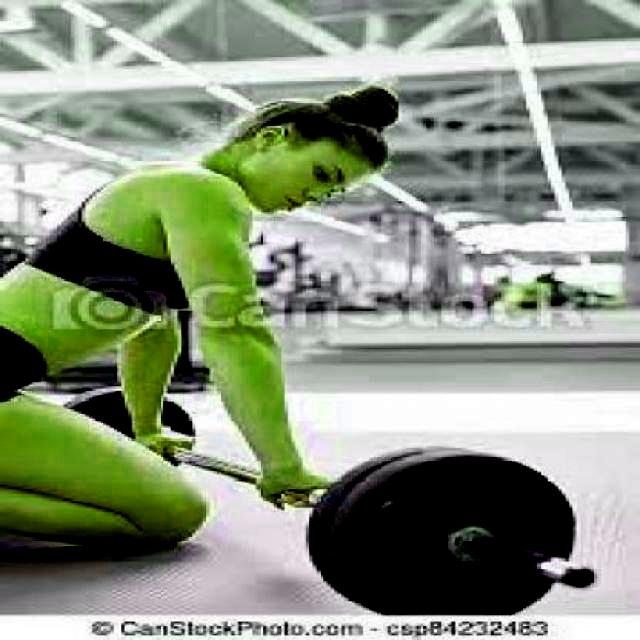barbell: (327, 447, 610, 617)
